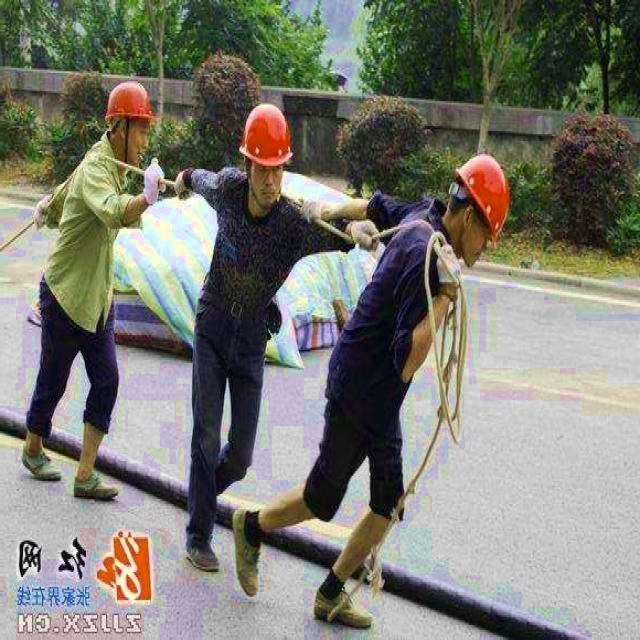Con_Casco: (451, 155, 506, 263), (240, 105, 290, 207)
